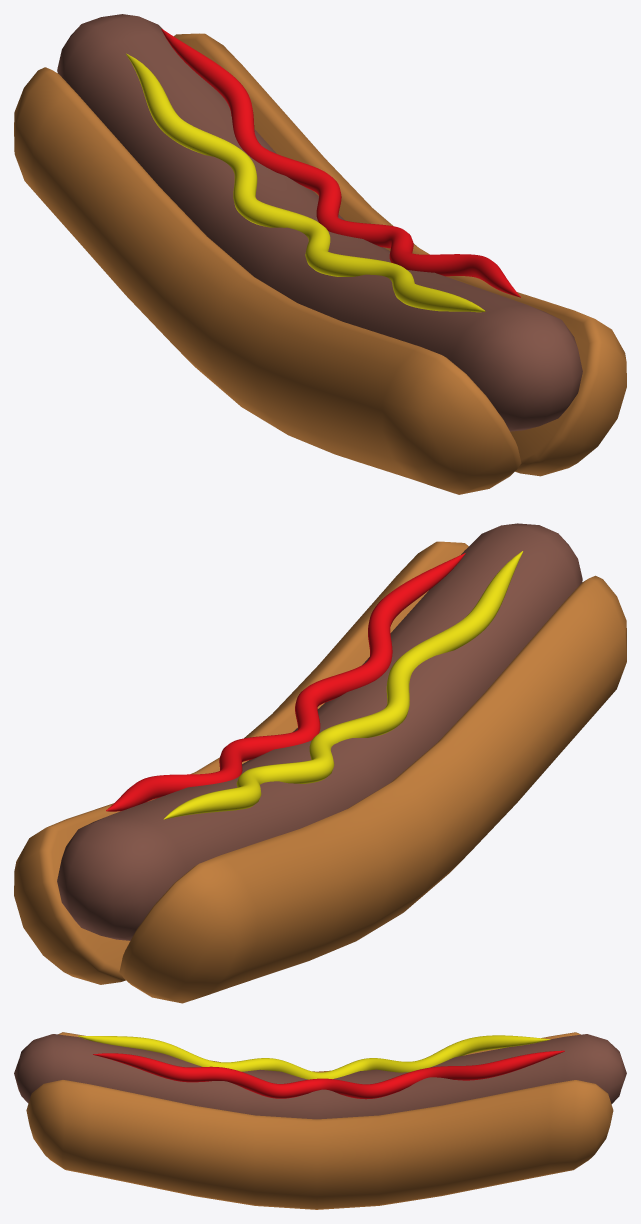
File: HotDog.fbx
3 renders of one model, top to bottom at view 1: azimuth 30°, elevation 25°; view 2: azimuth 150°, elevation 25°; view 3: azimuth 270°, elevation 25°, orthographic. The views are drawn at different scales.
Visible parts, largest first — view 1: Cube, Cube.001, NurbsPath, NurbsPath.001; view 2: Cube, Cube.001, NurbsPath, NurbsPath.001; view 3: Cube, Cube.001, NurbsPath.001, NurbsPath.
Part boxes in pixels (x1,y1,x2,y2): Cube: [14, 33, 626, 494]; Cube.001: [57, 14, 582, 431]; NurbsPath: [126, 53, 485, 312]; NurbsPath.001: [161, 29, 520, 297]; Cube: [14, 541, 626, 1003]; Cube.001: [57, 523, 582, 940]; NurbsPath: [163, 551, 523, 819]; NurbsPath.001: [106, 553, 465, 811]; Cube: [26, 1032, 613, 1209]; Cube.001: [14, 1034, 626, 1119]; NurbsPath.001: [93, 1050, 564, 1099]; NurbsPath: [78, 1035, 550, 1079].
Bounding box in the file's own units: 230 × 228 × 825.
